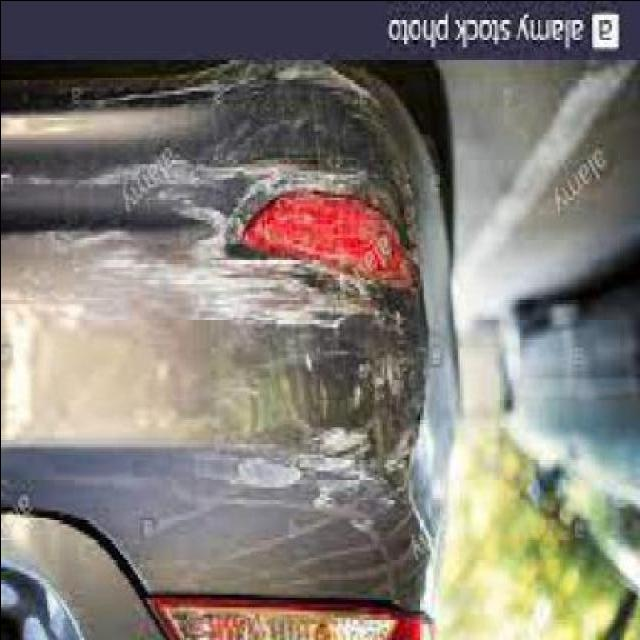rear-bumper-dent: (2, 47, 469, 611)
